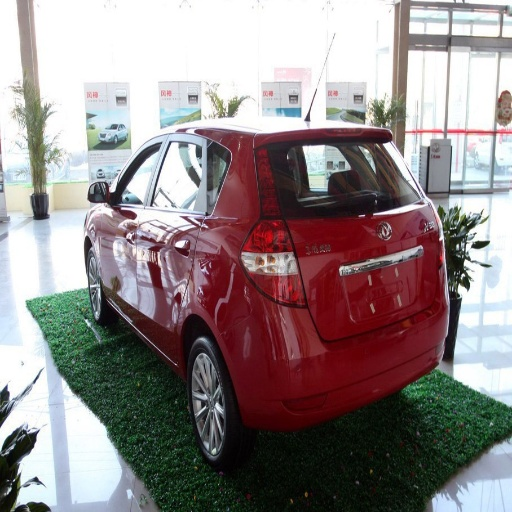back_bumper: (223, 275, 448, 432)
back_glass: (271, 140, 414, 208)
back_left_door: (140, 137, 210, 346)
tailgate: (288, 198, 430, 336)
trunk: (291, 202, 366, 251)
